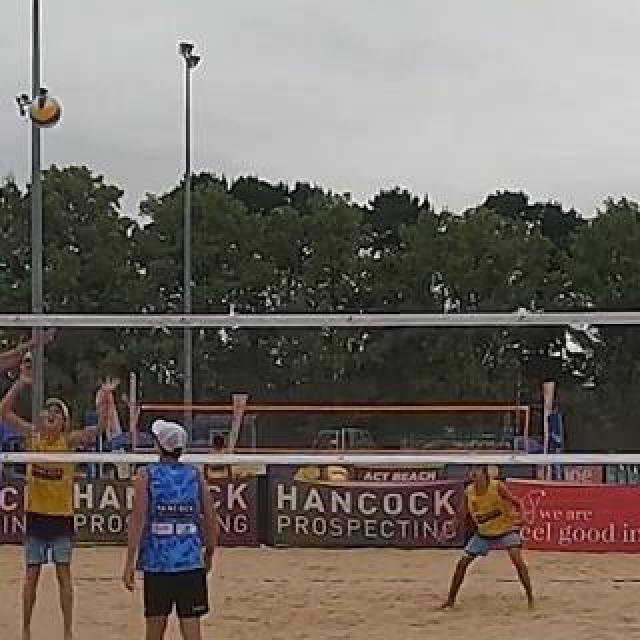volleyball: (30, 97, 60, 127)
